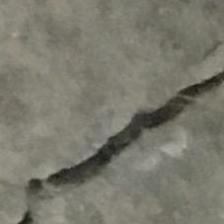Crack: (6, 73, 224, 224)
